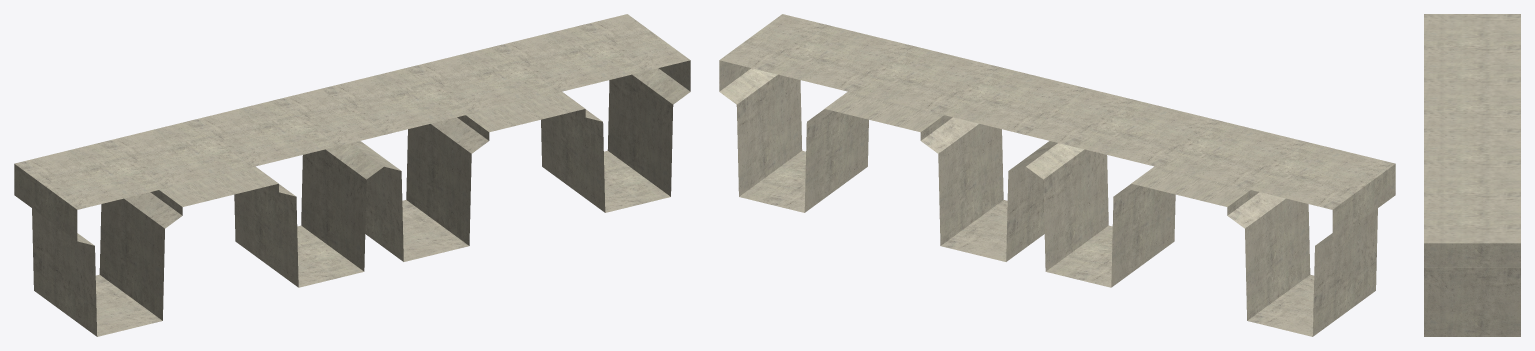
File: BridgeBase4-28w-5l-5d.FBX
3 views of the same model, side by side, from view 1: azimuth 30°, elevation 25°; view 2: azimuth 150°, elevation 25°; view 3: azimuth 270°, elevation 25° (orthographic). The views are drawn at different scales.
Visible parts, largest first — view 1: BridgeBase4-28w-5l-5d; view 2: BridgeBase4-28w-5l-5d; view 3: BridgeBase4-28w-5l-5d.
Boxes of the visible parts, x1,y1,x2,y2 form: BridgeBase4-28w-5l-5d: [14, 14, 690, 336]; BridgeBase4-28w-5l-5d: [719, 14, 1395, 336]; BridgeBase4-28w-5l-5d: [1424, 14, 1520, 336].
Size of the model in its own units: 28 by 5.75 by 5.
